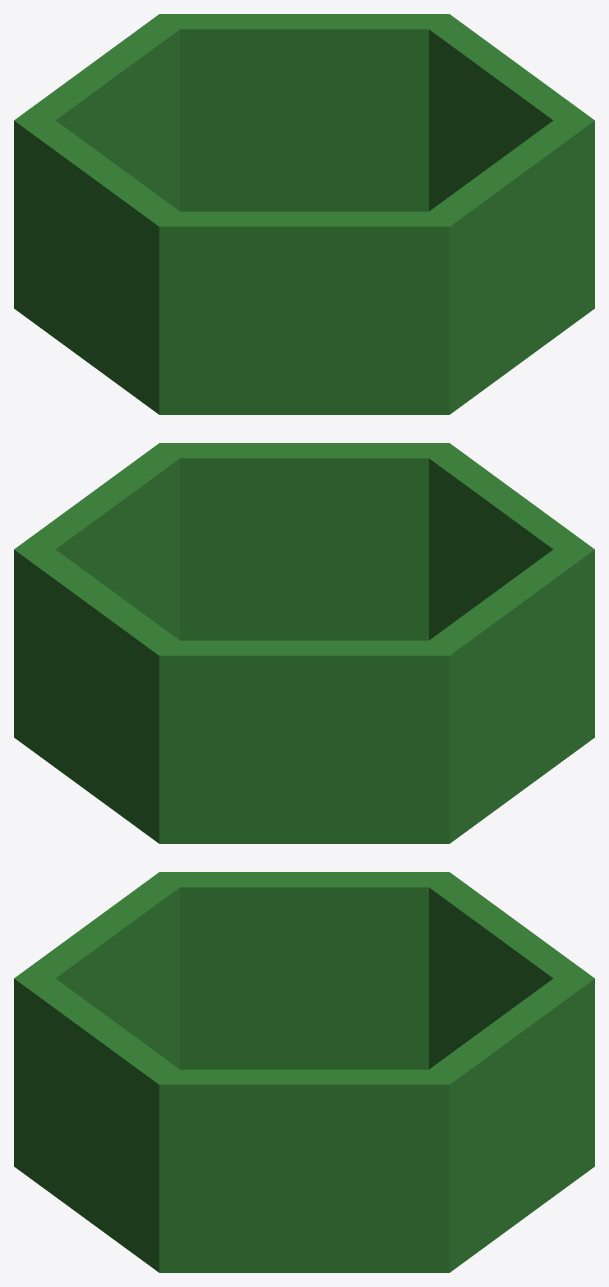
Rendered from chive.fbx.
The picture shows the model from 3 angles, top to bottom: view 1: azimuth 30°, elevation 25°; view 2: azimuth 150°, elevation 25°; view 3: azimuth 270°, elevation 25°; orthographic projection.
Parts seen in each view (by area): view 1: chive; view 2: chive; view 3: chive.
Part boxes in pixels (bbox=[...]): chive: bbox=[14, 14, 594, 414]; chive: bbox=[14, 443, 594, 843]; chive: bbox=[14, 872, 594, 1272].
Bounding box in the file's own units: 12.12 × 5 × 14.
Materials: 1 (1 with a texture image).
